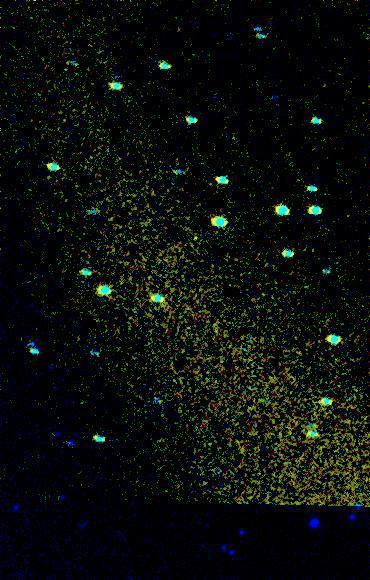star: (177, 227, 207, 257)
